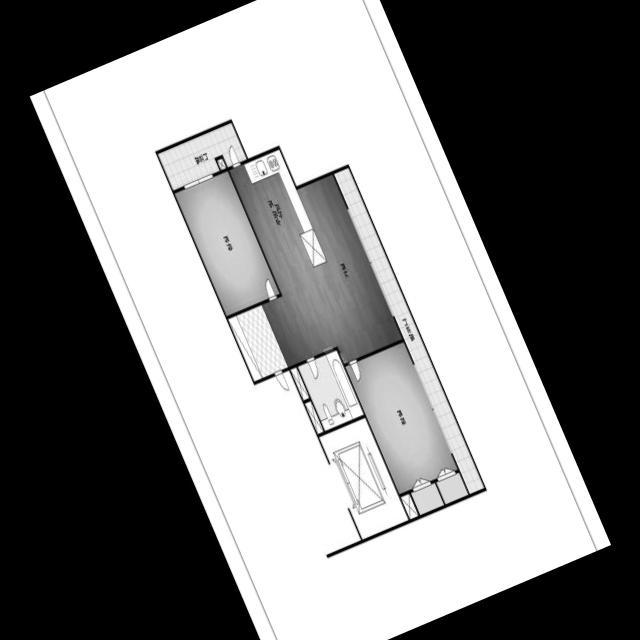background: (29, 0, 611, 640)
space_balconi: (333, 167, 484, 493), (157, 122, 246, 189)
space_bedroom: (345, 341, 468, 514), (174, 170, 279, 315)
space_elevator: (319, 416, 408, 538)
space_elevator_hall: (254, 369, 361, 554)
space_front: (227, 304, 287, 380)
space_kitchen: (229, 148, 327, 281)
space_living_room: (261, 173, 402, 366)
space_other: (290, 366, 309, 399), (304, 400, 323, 433), (400, 493, 418, 518), (216, 157, 226, 169)
space_toilet: (297, 349, 363, 430)
